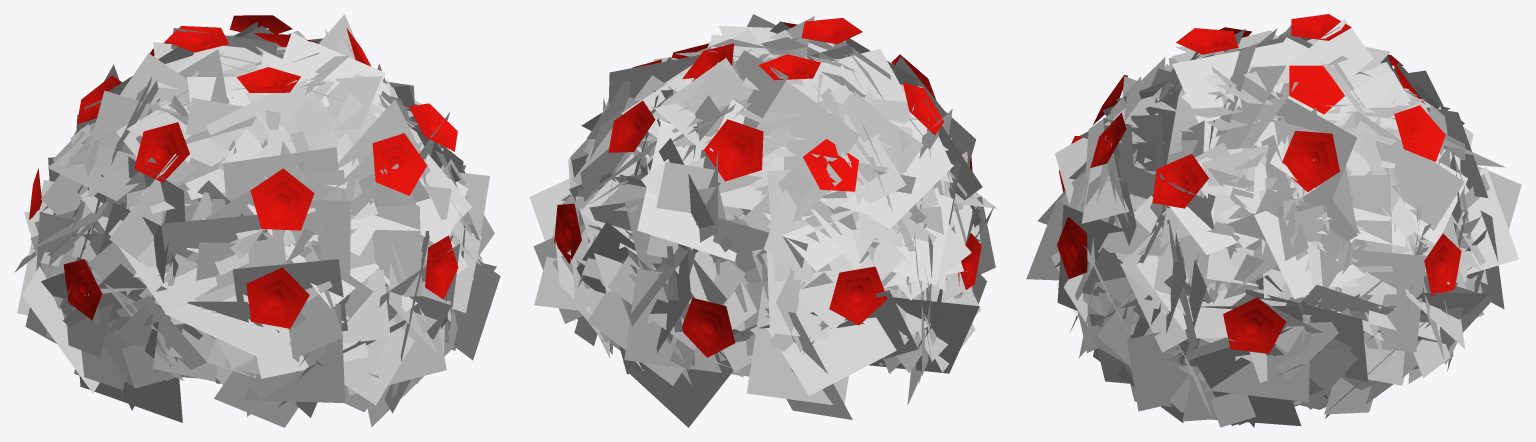
The model's file is Rose_Bush_2.fbx.
3 renders of one model, left to right at view 1: azimuth 30°, elevation 25°; view 2: azimuth 150°, elevation 25°; view 3: azimuth 270°, elevation 25°, orthographic. The views are drawn at different scales.
Visible parts, largest first — view 1: Leaf, Rose; view 2: Leaf, Rose, bush; view 3: Leaf, Rose.
Boxes of the visible parts, <box> form: Leaf: <box>14,14,500,427</box>; Rose: <box>29,15,464,328</box>; Leaf: <box>529,14,996,427</box>; Rose: <box>554,18,981,357</box>; bush: <box>725,157,810,372</box>; Leaf: <box>1026,19,1521,427</box>; Rose: <box>1057,14,1461,353</box>.
Bounding box in the file's own units: 280 × 213 × 283.
